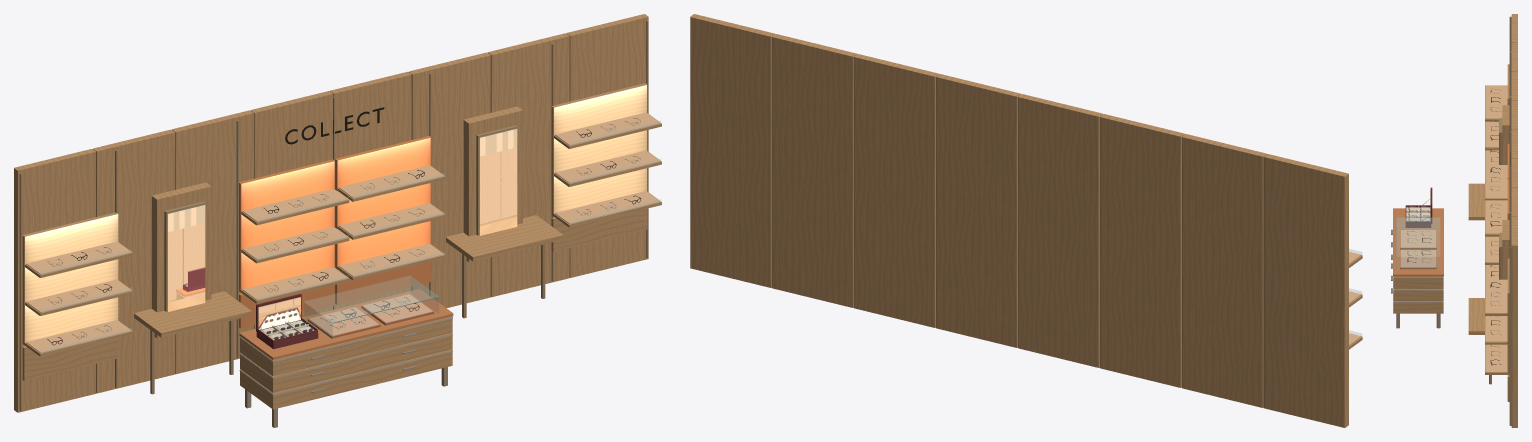
File: gallery.glb
3 views of the same model, side by side, from view 1: azimuth 30°, elevation 25°; view 2: azimuth 150°, elevation 25°; view 3: azimuth 270°, elevation 25° (orthographic). The views are drawn at different scales.
Visible parts, largest first — view 1: CollectGangnamOak, CollectGangnamFinish, CollectGangnamInterior, CollectGangnamGlass, CollectGangnamFrames; view 2: CollectGangnamOak; view 3: CollectGangnamInterior, CollectGangnamOak, CollectGangnamGlass, CollectGangnamFrames.
Part boxes in pixels (box(x1,y1,x2,y2)): CollectGangnamOak: box(14, 14, 661, 412); CollectGangnamFinish: box(25, 85, 646, 342); CollectGangnamInterior: box(19, 20, 660, 427); CollectGangnamGlass: box(40, 120, 660, 352); CollectGangnamFrames: box(47, 118, 641, 345); CollectGangnamOak: box(690, 14, 1362, 427); CollectGangnamInterior: box(1391, 16, 1511, 425); CollectGangnamOak: box(1393, 14, 1517, 427); CollectGangnamGlass: box(1396, 217, 1439, 269); CollectGangnamFrames: box(1407, 88, 1500, 365).
Size of the model in its own units: 7.99 by 2.96 by 1.85.
Materials: 5 (2 with a texture image).
